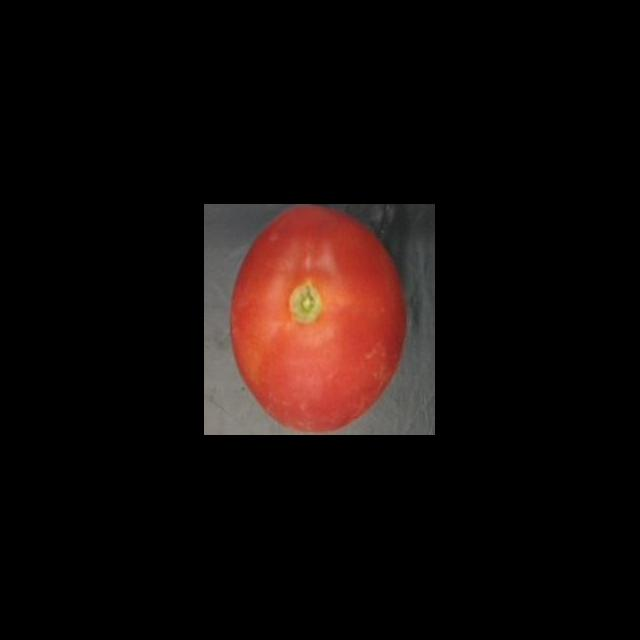tomato: (228, 204, 412, 436)
